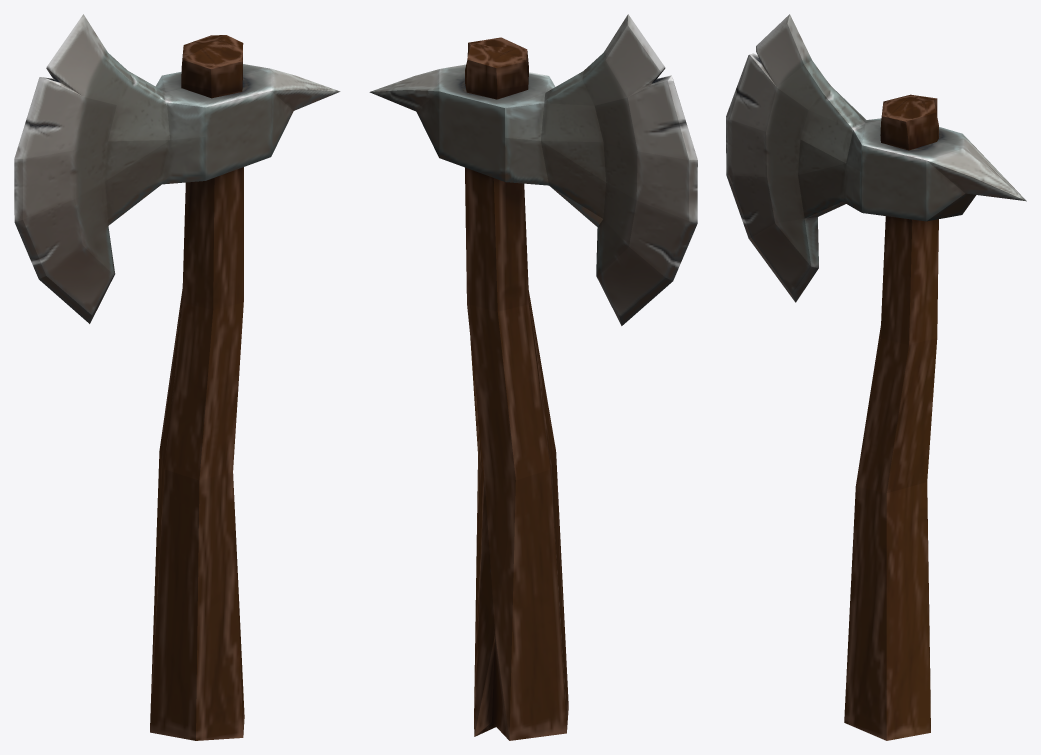
File: axe.obj
3 views of the same model, side by side, from view 1: azimuth 30°, elevation 25°; view 2: azimuth 150°, elevation 25°; view 3: azimuth 330°, elevation 25° (orthographic). The views are drawn at different scales.
Parts seen in each view (by area): view 1: Axe_Low; view 2: Axe_Low; view 3: Axe_Low.
Boxes of the visible parts, left/top/right/bottom form: Axe_Low: left=14, top=14, right=340, bottom=740; Axe_Low: left=369, top=14, right=697, bottom=740; Axe_Low: left=726, top=14, right=1026, bottom=740.
Size of the model in its own units: 0.4786 by 1.03 by 0.1293.
Materials: 1 (1 with a texture image).
